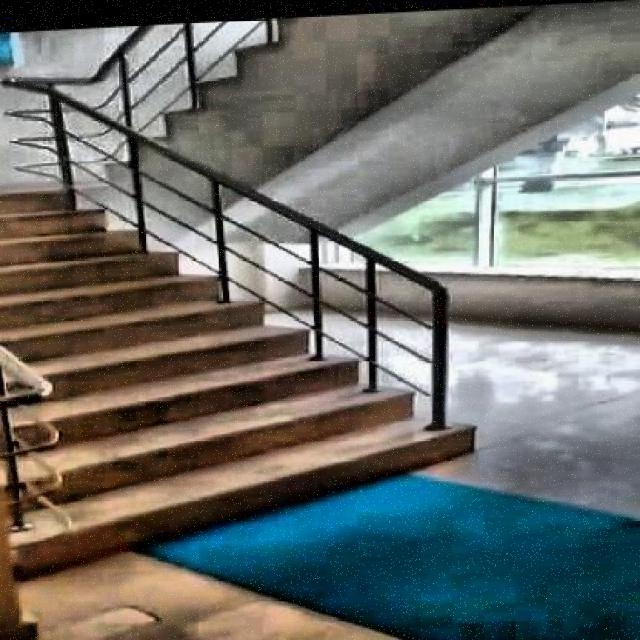stair: (2, 135, 489, 575)
